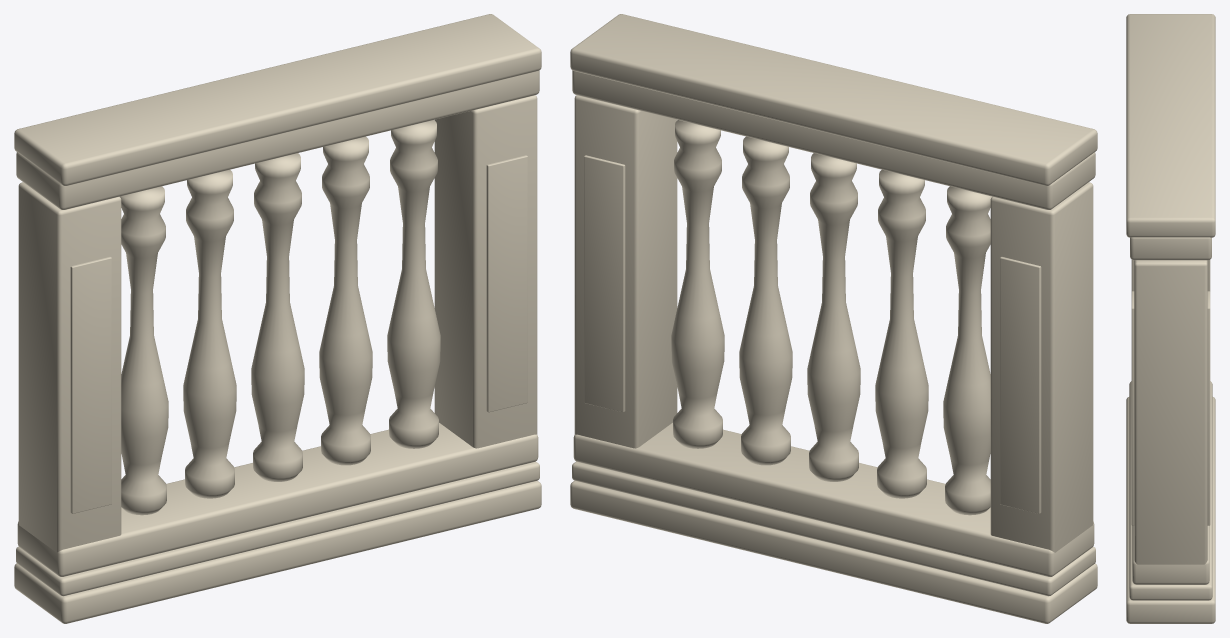
Rendered from balcony-rail-limestone.glb.
3 views of the same model, side by side, from view 1: azimuth 30°, elevation 25°; view 2: azimuth 150°, elevation 25°; view 3: azimuth 270°, elevation 25° (orthographic). The views are drawn at different scales.
Visible parts, largest first — view 1: balcony-rail-limestone; view 2: balcony-rail-limestone; view 3: balcony-rail-limestone.
Boxes of the visible parts, bbox=[...] form: balcony-rail-limestone: bbox=[14, 14, 541, 623]; balcony-rail-limestone: bbox=[570, 14, 1097, 623]; balcony-rail-limestone: bbox=[1126, 14, 1215, 623].
Size of the model in its own units: 1.2 by 1.1 by 0.22.
